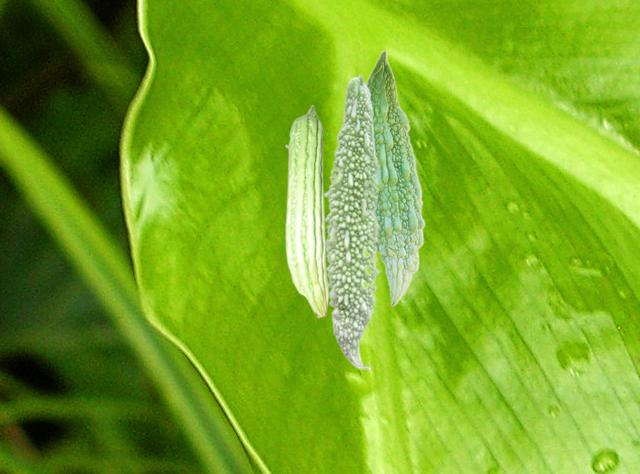ampalaya: (321, 72, 383, 369), (366, 49, 427, 307), (283, 102, 329, 319)
